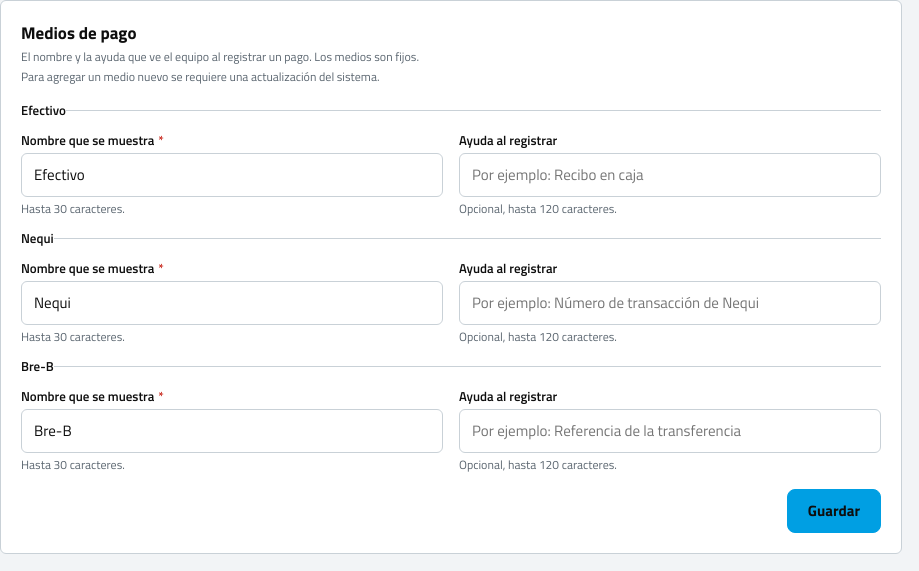
PaymentMethodsForm › guarda las tres etiquetas recortadas con la versión leída y muestra «Cambios guardados»
expect the element "Efectivo" is shown: met, box top-left (21, 101), bottom-right (881, 217)
Replace the text in the field labelled "Nombre que se muestra*" below "Nequi" with "  Nequi del box " at [232, 303], box top-left (21, 281), bottom-right (443, 325)
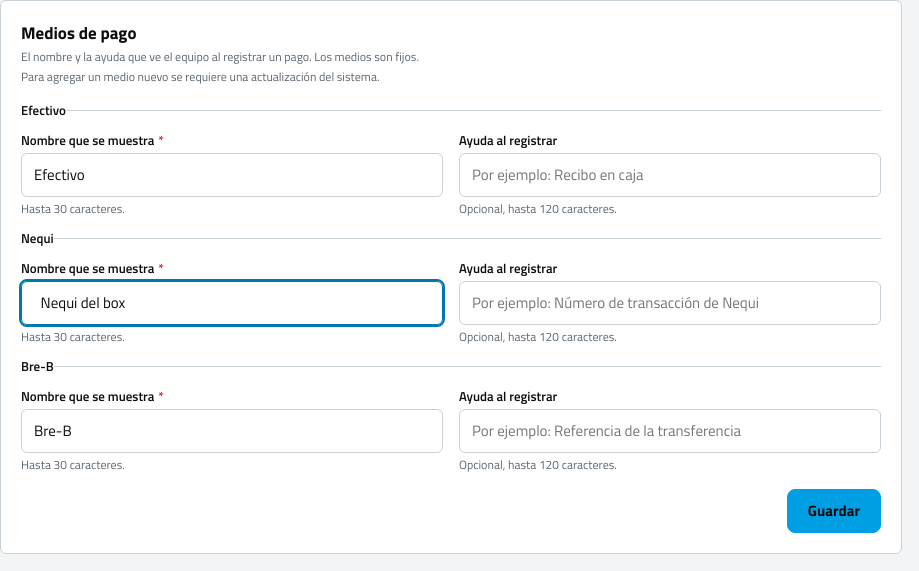
Type "Número de transacción" into the 2nd field labelled "Ayuda al registrar" at [670, 303], box top-left (459, 281), bottom-right (881, 325)
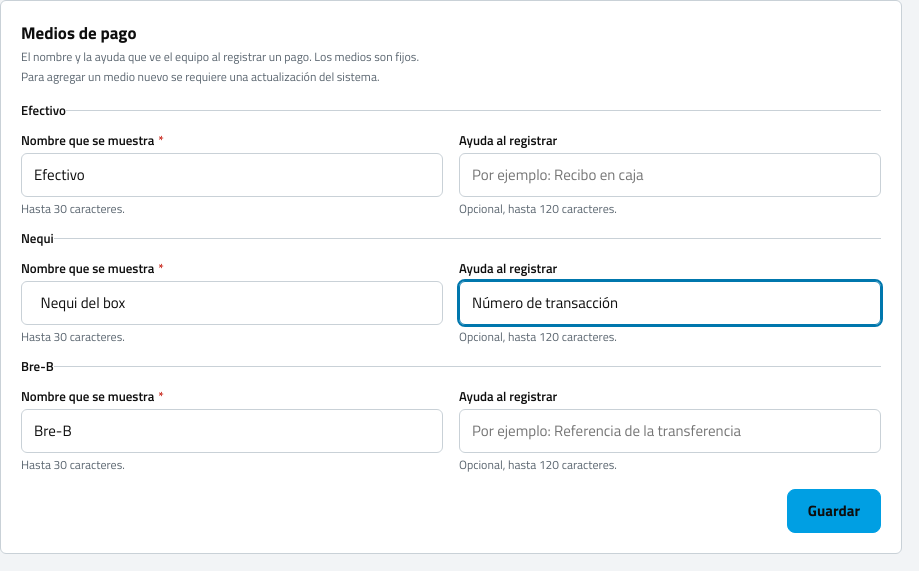
Click the button "Guardar" at [834, 511], box top-left (787, 489), bottom-right (881, 533)
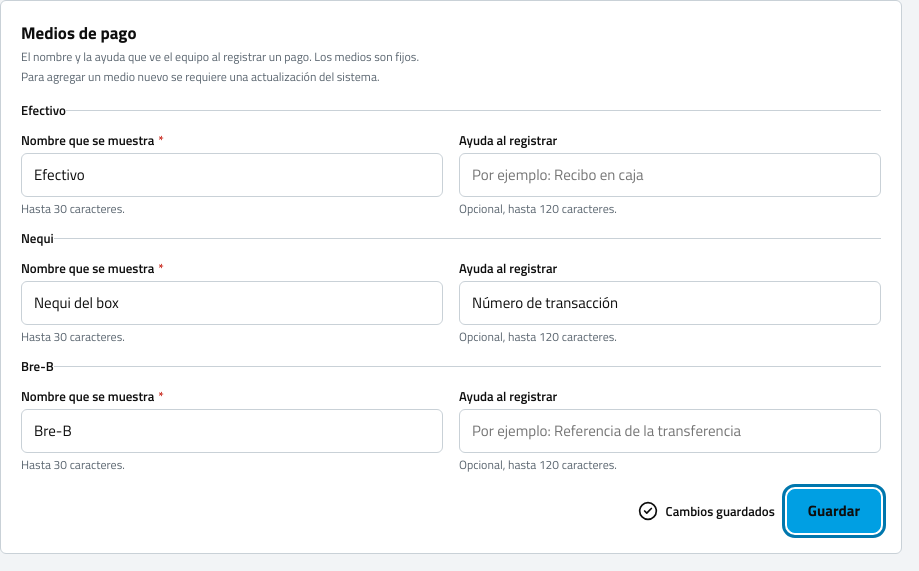
expect the text "Cambios guardados" is shown: met, box top-left (638, 501), bottom-right (775, 521)
